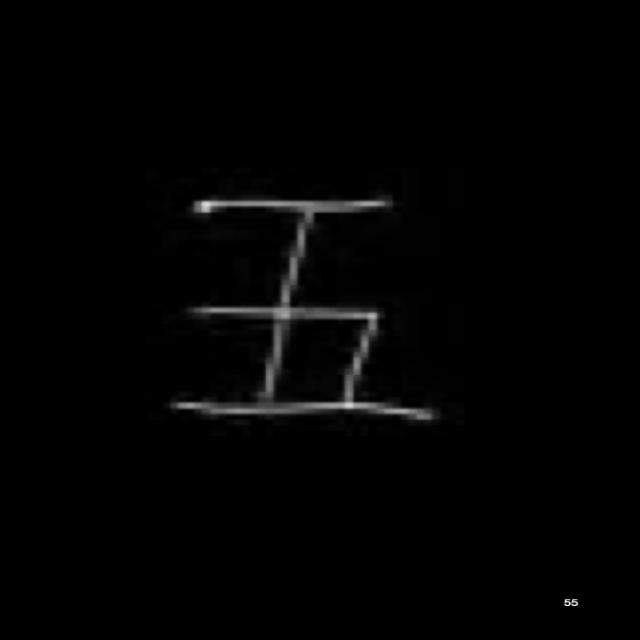5 -five-: (158, 175, 440, 441)
